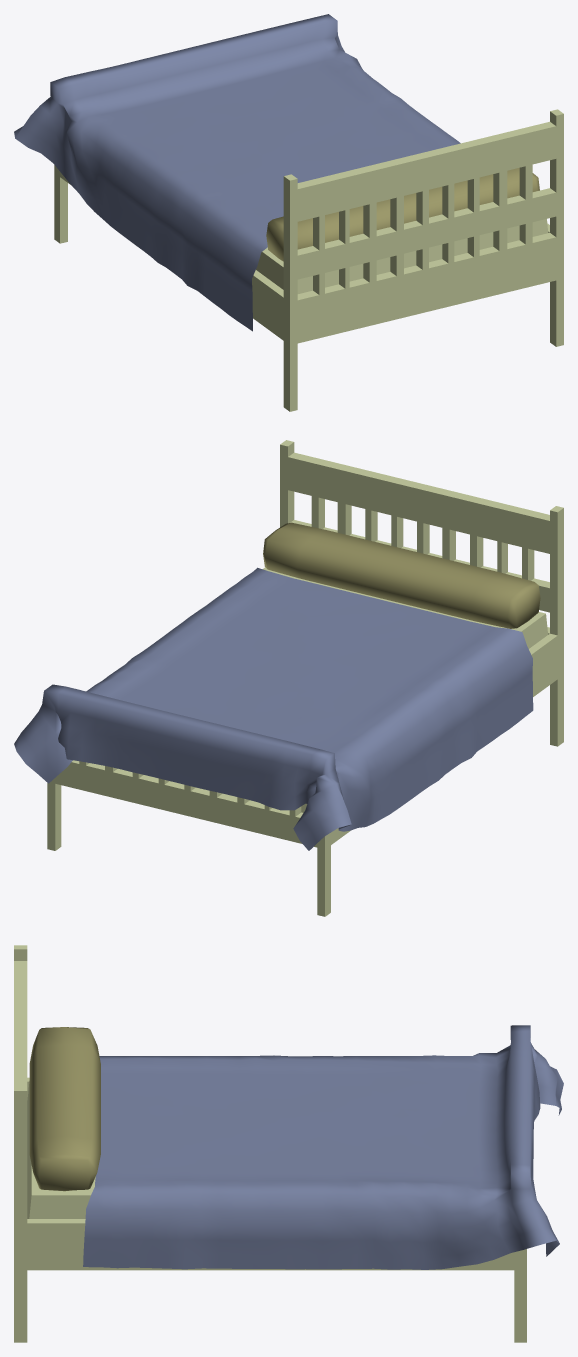
Rendered from cama1.fbx.
The picture shows the model from 3 angles, top to bottom: view 1: azimuth 30°, elevation 25°; view 2: azimuth 150°, elevation 25°; view 3: azimuth 270°, elevation 25°; orthographic projection. The views are drawn at different scales.
Visible parts, largest first — view 1: Plane; view 2: Plane; view 3: Plane.
Part boxes in pixels (x1,y1,x2,y2): Plane: [14, 14, 563, 411]; Plane: [14, 440, 563, 916]; Plane: [14, 945, 563, 1342].
Bounding box in the file's own units: 356 × 236 × 468.
